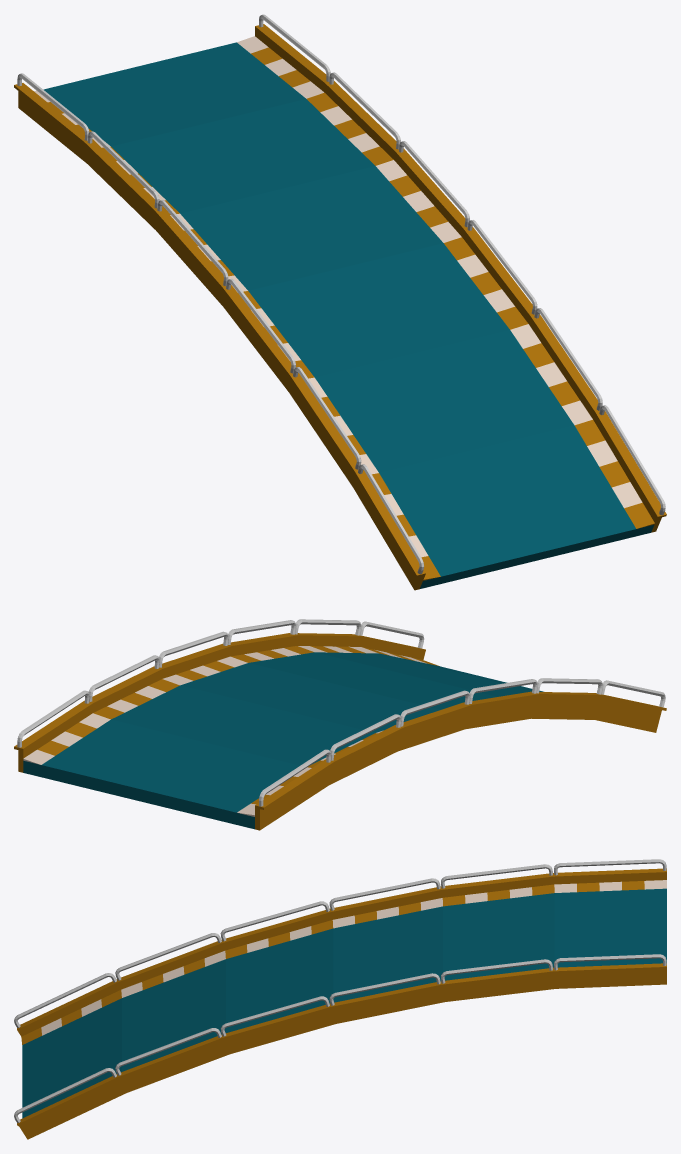
The model's file is descent-30_l.FBX.
3 renders of one model, top to bottom at view 1: azimuth 30°, elevation 25°; view 2: azimuth 150°, elevation 25°; view 3: azimuth 270°, elevation 25°, orthographic. The views are drawn at different scales.
Visible parts, largest first — view 1: descent-30_l, wall_r, wall_l, curbs_l, curbs_r; view 2: descent-30_l, wall_r, wall_l, curbs_l, curbs_r; view 3: descent-30_l, wall_l, wall_r, curbs_r.
Part boxes in pixels (x1,y1,x2,y2): descent-30_l: (43,42,654,588); wall_r: (14,73,425,590); wall_l: (255,14,666,532); curbs_l: (237,36,654,528); curbs_r: (34,90,440,580); descent-30_l: (23,652,543,829); wall_r: (255,678,666,830); wall_l: (14,619,425,772); curbs_l: (23,646,439,764); curbs_r: (237,730,383,816); descent-30_l: (22,888,666,1118); wall_l: (14,954,666,1139); wall_r: (14,859,666,1036); curbs_r: (21,880,666,1044).
Size of what is drawn, in the model's own units: 207 by 182 by 580.
